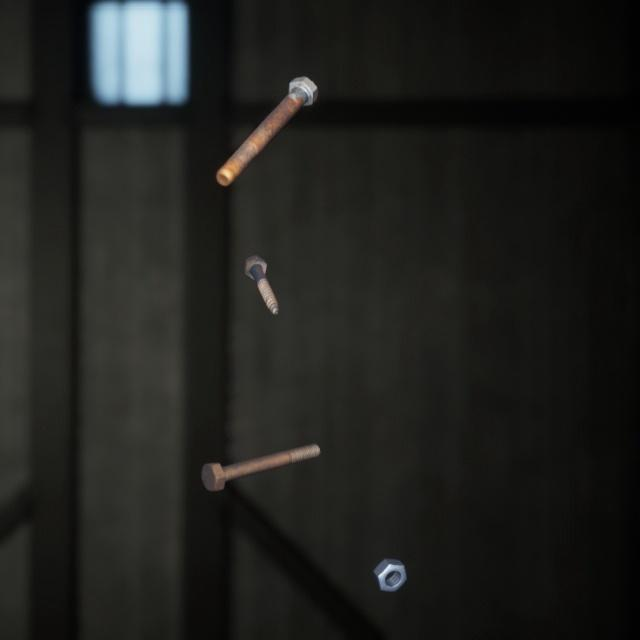bolt: (211, 59, 322, 176), (197, 418, 324, 473), (239, 233, 283, 301)
nut: (368, 532, 411, 574)
